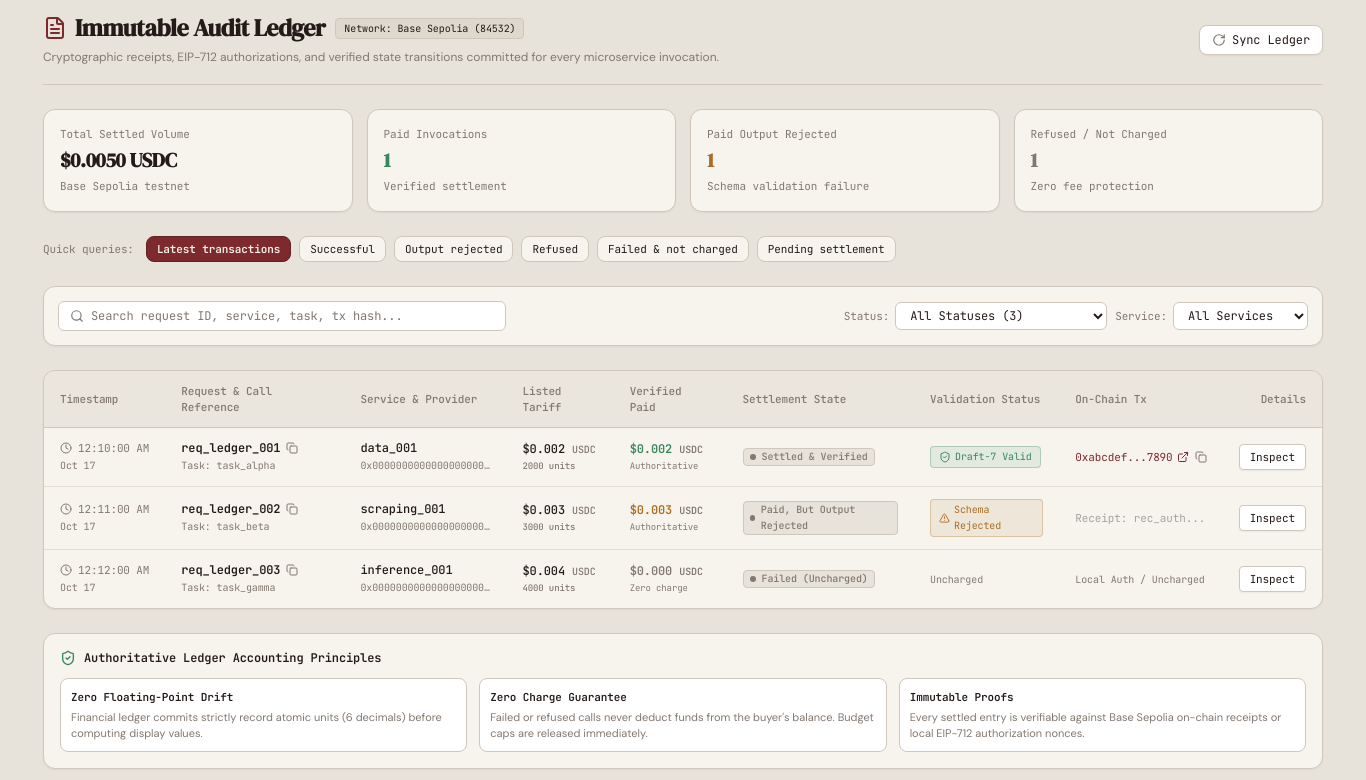
Test case: Phase 7: Immutable Audit Ledger (/ledger) › filters ledger records by status and search query
In the field with placeholder "Search request ID, service, task, tx hash...": (282, 316) [58, 301, 506, 331], type "scraping_001"
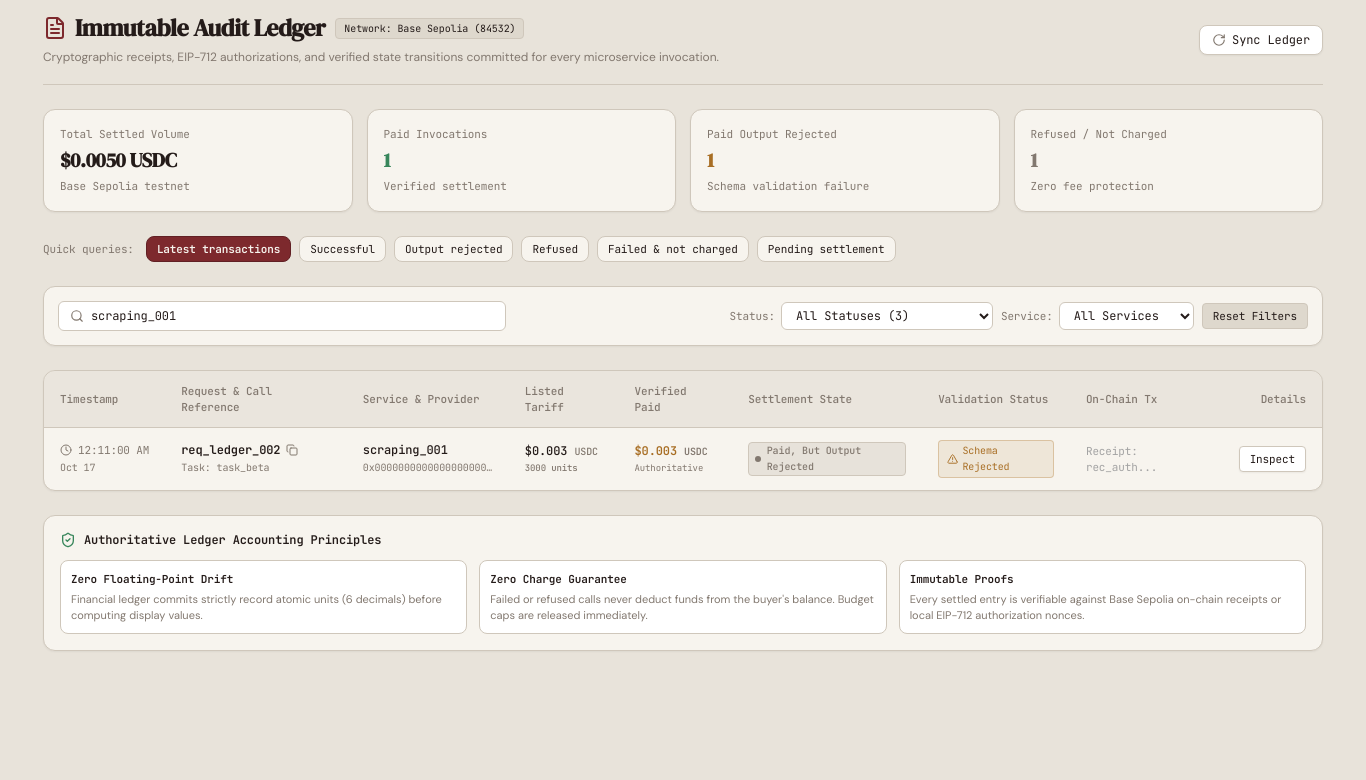
Check: the text "req_ledger_002" is shown, box [181, 442, 280, 458]
Check: the text "req_ledger_001" is gone
Check: the text "req_ledger_003" is gone
